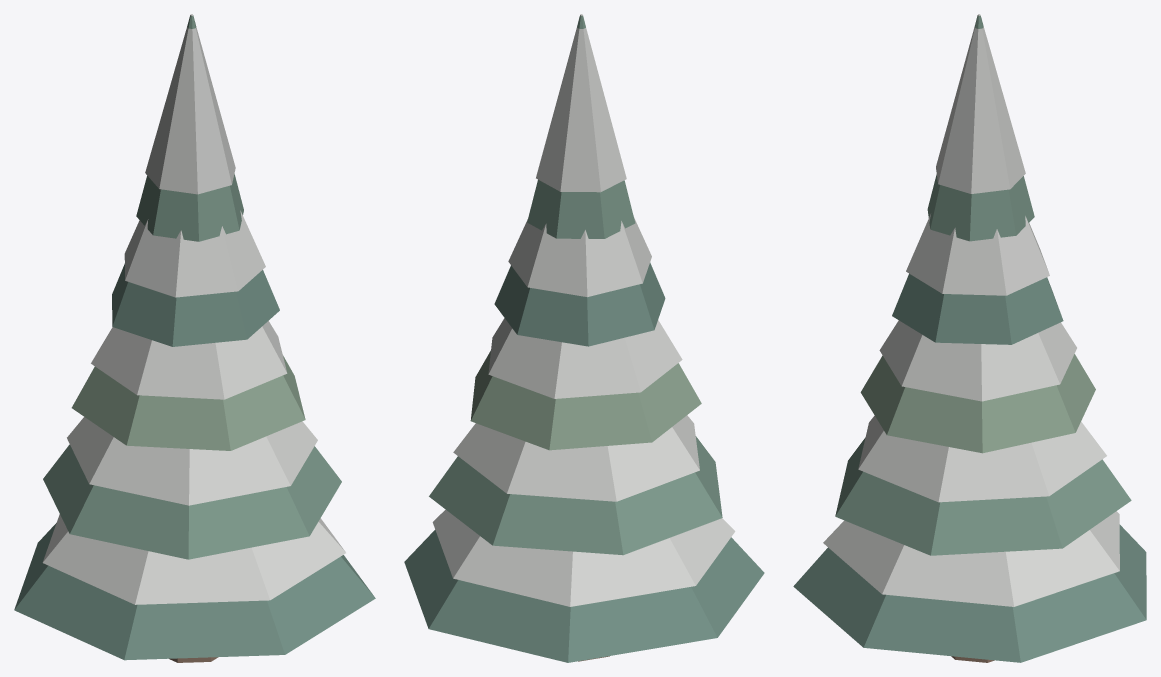
3 renders of one model, left to right at view 1: azimuth 30°, elevation 25°; view 2: azimuth 150°, elevation 25°; view 3: azimuth 270°, elevation 25°, orthographic.
Parts seen in each view (by area): view 1: T06; view 2: T06; view 3: T06.
Part boxes in pixels (x1=…): T06: x1=14, y1=14, x2=375, y2=662; T06: x1=404, y1=14, x2=764, y2=662; T06: x1=793, y1=14, x2=1146, y2=662.
Bounding box in the file's own units: 1.13 × 2.18 × 1.1.
